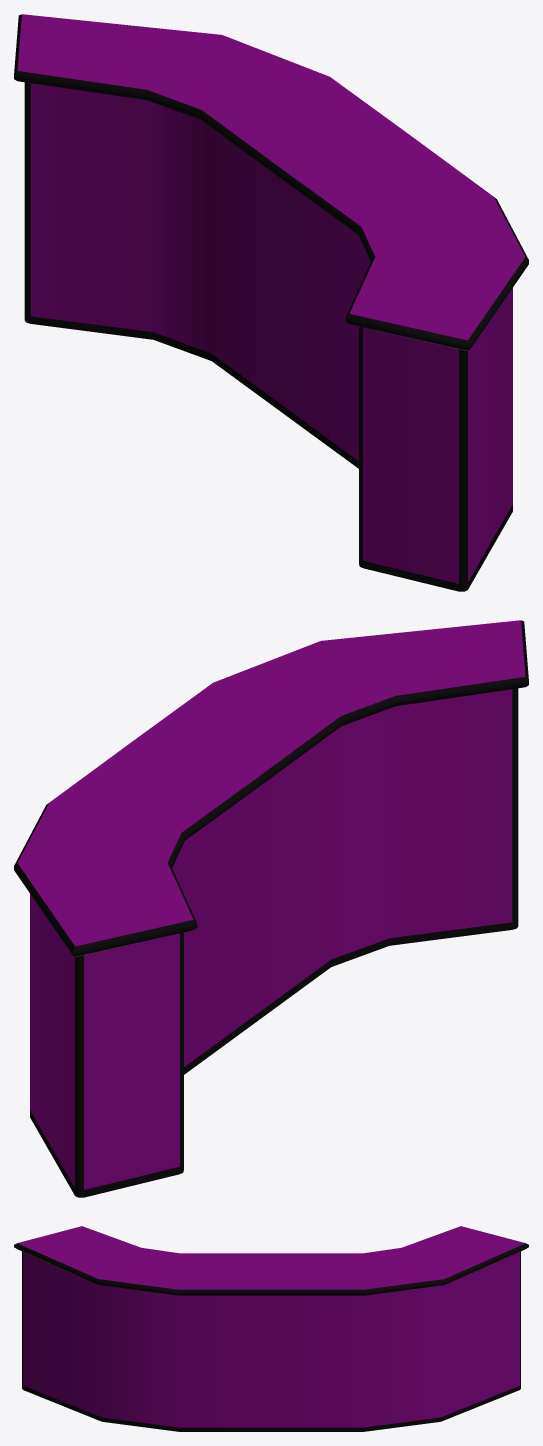
Rendered from WW_ContestantPodium_Env.fbx.
3 views of the same model, one above another, from view 1: azimuth 30°, elevation 25°; view 2: azimuth 150°, elevation 25°; view 3: azimuth 270°, elevation 25° (orthographic). The views are drawn at different scales.
Visible parts, largest first — view 1: ContestantPodium; view 2: ContestantPodium; view 3: ContestantPodium.
Part boxes in pixels (box(x1,y1,x2,y2)): ContestantPodium: box(14, 14, 528, 591); ContestantPodium: box(14, 620, 528, 1197); ContestantPodium: box(14, 1226, 528, 1431).
Bounding box in the file's own units: 109 × 112 × 361.
